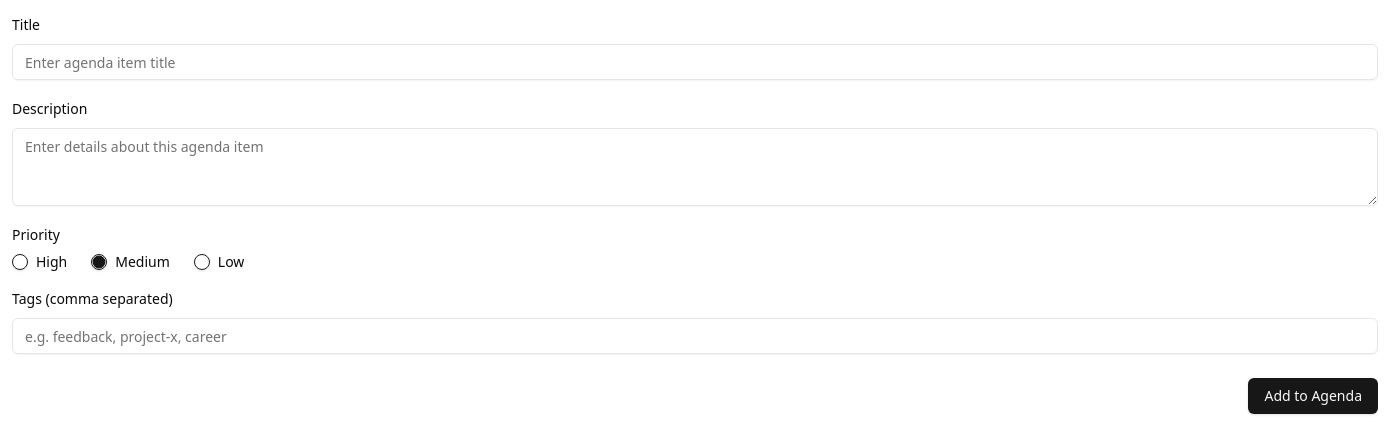
Test: AgendaItemForm › handles priority selection
Click the radio button named "High" next to "High" at (20, 262), box [12,254,28,270]
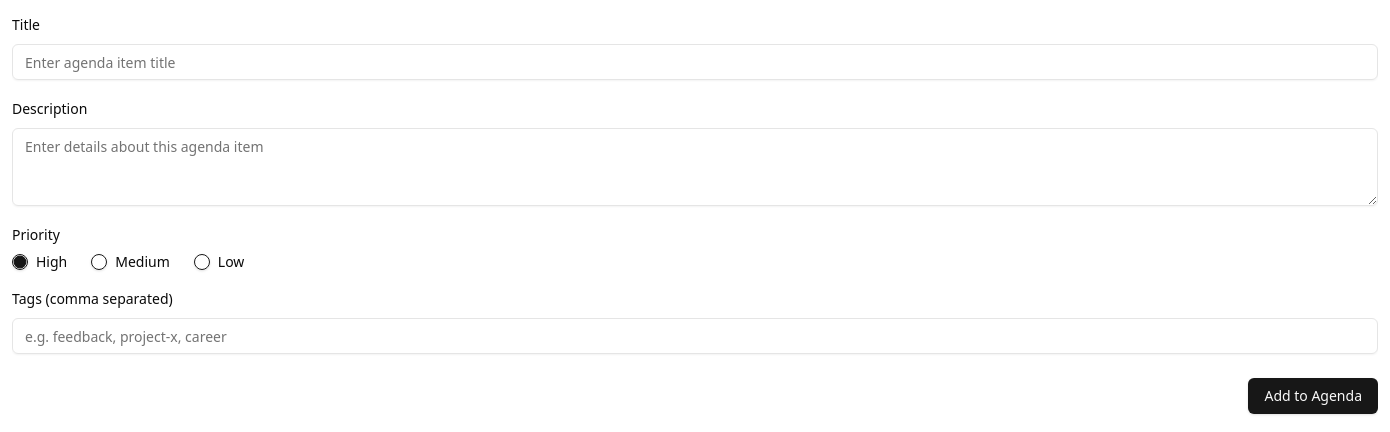
expect the radio button named "Low" next to "Low" is not checked: met, box [194,254,210,270]
expect the radio button named "High" next to "High" is checked: met, box [12,254,28,270]
expect the radio button named "Medium" next to "Medium" is not checked: met, box [91,254,107,270]
